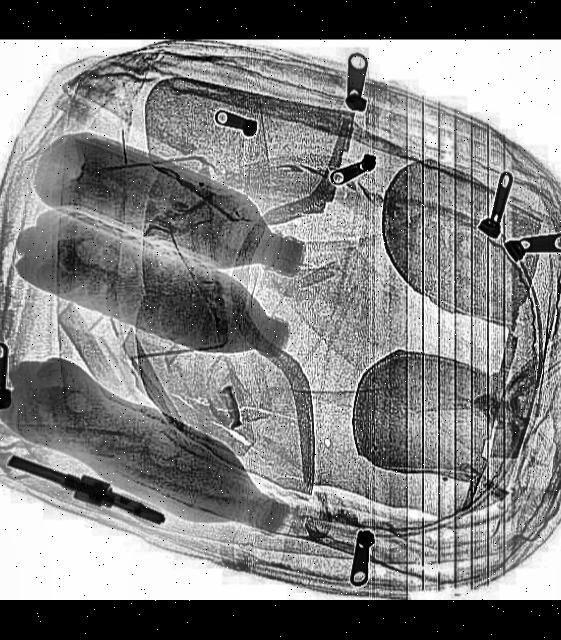Gun: (0, 450, 166, 529)
